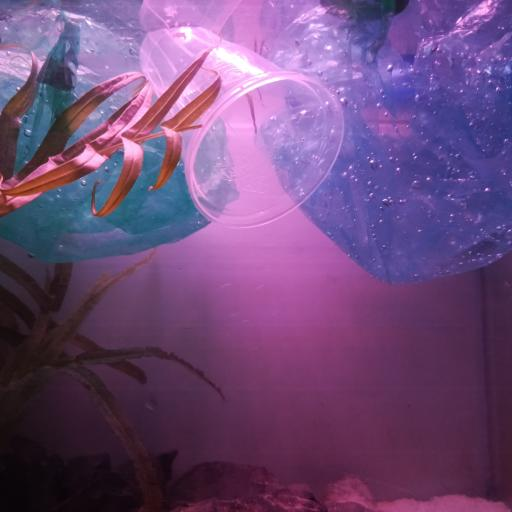plastic_bag: (259, 0, 512, 286), (0, 0, 241, 261)
plastic_cup: (140, 28, 344, 232)
